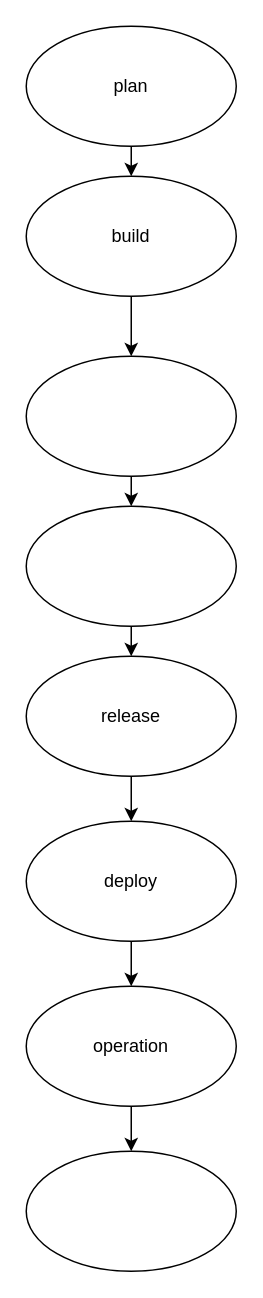
This 263x1298 diagram has some shape labels left out. The shapes that lost their labels are listed below. From the top down, each one's centre as x and y in pixels, then its label:
the point at 130,415: develop
the point at 130,565: test
the point at 130,1210: monitor
